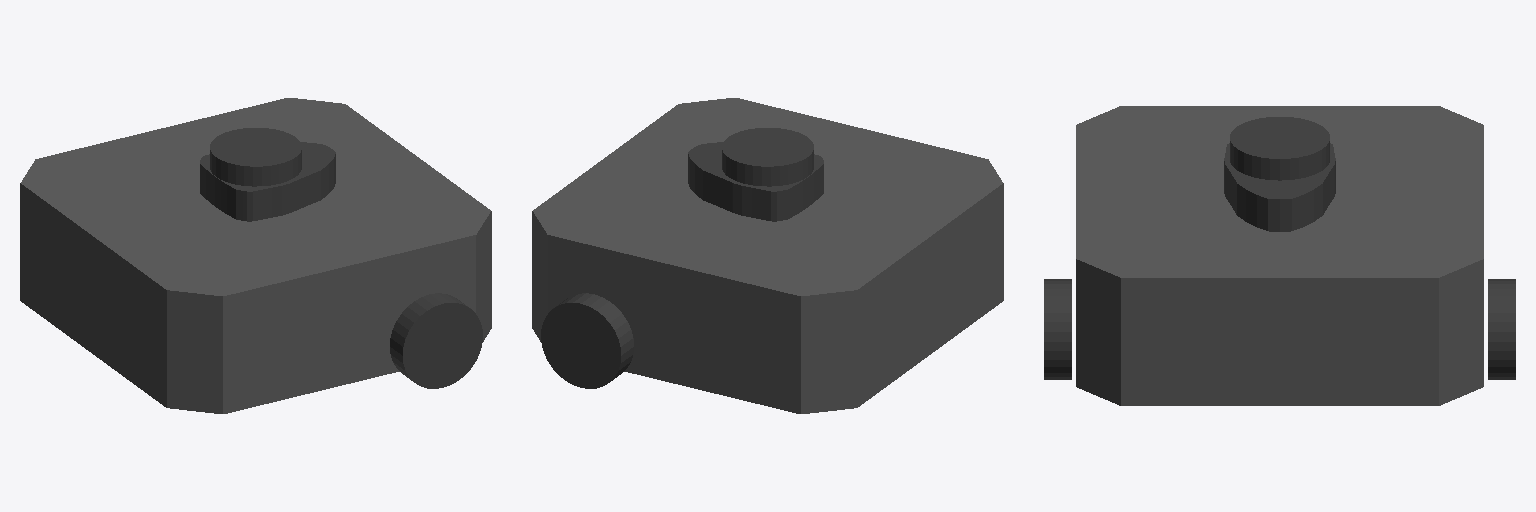
robot.urdf — turtlebot3_waffle_pi:
<?xml version="1.0" ?>
<robot name="turtlebot3_waffle_pi" xmlns:xacro="http://ros.org/wiki/xacro">
  <!-- <xacro:include filename="$(find turtlebot3_description)/urdf/common_properties.urdf"/> -->

  <!-- Init colour -->
  <material name="black">
      <color rgba="0.0 0.0 0.0 1.0"/>
  </material>

  <material name="dark">
    <color rgba="0.3 0.3 0.3 1.0"/>
  </material>

  <material name="light_black">
    <color rgba="0.4 0.4 0.4 1.0"/>
  </material>

  <material name="blue">
    <color rgba="0.0 0.0 0.8 1.0"/>
  </material>

  <material name="green">
    <color rgba="0.0 0.8 0.0 1.0"/>
  </material>

  <material name="grey">
    <color rgba="0.5 0.5 0.5 1.0"/>
  </material>

  <material name="orange">
    <color rgba="1.0 0.4235 0.0392 1.0"/>
  </material>

  <material name="brown">
    <color rgba="0.8706 0.8118 0.7647 1.0"/>
  </material>

  <material name="red">
    <color rgba="0.8 0.0 0.0 1.0"/>
  </material>

  <material name="white">
    <color rgba="1.0 1.0 1.0 1.0"/>
  </material>

  <link name="base_footprint"/>

  <joint name="base_joint" type="fixed">
    <parent link="base_footprint"/>
    <child link="base_link" />
    <origin xyz="0 0 0.010" rpy="0 0 0"/>
  </joint>

  <link name="base_link">
    <visual>
      <origin xyz="-0.064 0 0.0" rpy="0 0 0"/>
      <geometry>
        <mesh filename="package://turtlebot3_gazebo/models/turtlebot3_common/meshes/waffle_pi_base.dae" scale="0.001 0.001 0.001"/>
      </geometry>
      <material name="light_black"/>
    </visual>

    <collision>
      <origin xyz="-0.064 0 0.047" rpy="0 0 0"/>
      <geometry>
        <box size="0.266 0.266 0.094"/>
      </geometry>
    </collision>

    <inertial>
      <origin xyz="0 0 0" rpy="0 0 0"/>
      <mass value="1.3729096e+00"/>
      <inertia ixx="8.7002718e-03" ixy="-4.7576583e-05" ixz="1.1160499e-04"
               iyy="8.6195418e-03" iyz="-3.5422299e-06"
               izz="1.4612727e-02" />
    </inertial>
  </link>

  <joint name="wheel_left_joint" type="continuous">
    <parent link="base_link"/>
    <child link="wheel_left_link"/>
    <origin xyz="0.0 0.144 0.023" rpy="-1.57 0 0"/>
    <axis xyz="0 0 1"/>
  </joint>

  <link name="wheel_left_link">
    <visual>
      <origin xyz="0 0 0" rpy="1.57 0 0"/>
      <geometry>
        <mesh filename="package://turtlebot3_gazebo/models/turtlebot3_common/meshes/tire.dae" scale="0.001 0.001 0.001"/>
      </geometry>
      <material name="dark"/>
    </visual>

    <collision>
      <origin xyz="0 0 0" rpy="0 0 0"/>
      <geometry>
        <cylinder length="0.018" radius="0.033"/>
      </geometry>
    </collision>

    <inertial>
      <origin xyz="0 0 0" />
      <mass value="2.8498940e-02" />
      <inertia ixx="1.1175580e-05" ixy="-4.2369783e-11" ixz="-5.9381719e-09"
               iyy="1.1192413e-05" iyz="-1.4400107e-11"
               izz="2.0712558e-05" />
      </inertial>
  </link>

  <joint name="wheel_right_joint" type="continuous">
    <parent link="base_link"/>
    <child link="wheel_right_link"/>
    <origin xyz="0.0 -0.144 0.023" rpy="-1.57 0 0"/>
    <axis xyz="0 0 1"/>
  </joint>

  <link name="wheel_right_link">
    <visual>
      <origin xyz="0 0 0" rpy="1.57 0 0"/>
      <geometry>
        <mesh filename="package://turtlebot3_gazebo/models/turtlebot3_common/meshes/tire.dae" scale="0.001 0.001 0.001"/>
      </geometry>
      <material name="dark"/>
    </visual>

    <collision>
      <origin xyz="0 0 0" rpy="0 0 0"/>
      <geometry>
        <cylinder length="0.018" radius="0.033"/>
      </geometry>
    </collision>

    <inertial>
      <origin xyz="0 0 0" />
      <mass value="2.8498940e-02" />
      <inertia ixx="1.1175580e-05" ixy="-4.2369783e-11" ixz="-5.9381719e-09"
               iyy="1.1192413e-05" iyz="-1.4400107e-11"
               izz="2.0712558e-05" />
      </inertial>
  </link>

  <joint name="caster_back_right_joint" type="fixed">
    <parent link="base_link"/>
    <child link="caster_back_right_link"/>
    <origin xyz="-0.177 -0.064 -0.004" rpy="-1.57 0 0"/>
  </joint>

  <link name="caster_back_right_link">
    <collision>
      <origin xyz="0 0.001 0" rpy="0 0 0"/>
      <geometry>
        <box size="0.030 0.009 0.020"/>
      </geometry>
    </collision>

    <inertial>
      <origin xyz="0 0 0" />
      <mass value="0.005" />
      <inertia ixx="0.001" ixy="0.0" ixz="0.0"
               iyy="0.001" iyz="0.0"
               izz="0.001" />
    </inertial>
  </link>

  <joint name="caster_back_left_joint" type="fixed">
    <parent link="base_link"/>
    <child link="caster_back_left_link"/>
    <origin xyz="-0.177 0.064 -0.004" rpy="-1.57 0 0"/>
  </joint>

  <link name="caster_back_left_link">
    <collision>
      <origin xyz="0 0.001 0" rpy="0 0 0"/>
      <geometry>
        <box size="0.030 0.009 0.020"/>
      </geometry>
    </collision>

    <inertial>
      <origin xyz="0 0 0" />
      <mass value="0.005" />
      <inertia ixx="0.001" ixy="0.0" ixz="0.0"
               iyy="0.001" iyz="0.0"
               izz="0.001" />
    </inertial>
  </link>

  <joint name="imu_joint" type="fixed">
    <parent link="base_link"/>
    <child link="imu_link"/>
    <origin xyz="0.0 0 0.068" rpy="0 0 0"/>
  </joint>

  <link name="imu_link"/>

  <joint name="scan_joint" type="fixed">
    <parent link="base_link"/>
    <child link="base_scan"/>
    <origin xyz="-0.064 0 0.122" rpy="0 0 0"/>
  </joint>

  <link name="base_scan">
    <visual>
      <origin xyz="0 0 0.0" rpy="0 0 0"/>
      <geometry>
        <mesh filename="package://turtlebot3_gazebo/models/turtlebot3_common/meshes/lds.dae" scale="0.001 0.001 0.001"/>
      </geometry>
      <material name="dark"/>
    </visual>

    <collision>
      <origin xyz="0.015 0 -0.0065" rpy="0 0 0"/>
      <geometry>
        <cylinder length="0.0315" radius="0.055"/>
      </geometry>
    </collision>

    <inertial>
      <mass value="0.114" />
      <origin xyz="0 0 0" />
      <inertia ixx="0.001" ixy="0.0" ixz="0.0"
               iyy="0.001" iyz="0.0"
               izz="0.001" />
    </inertial>
  </link>

  <joint name="camera_joint" type="fixed">
    <origin xyz="0.073 -0.011 0.084" rpy="0 0 0"/>
    <parent link="base_link"/>
    <child link="camera_link"/>
  </joint>

  <link name="camera_link">
    <collision>
      <origin xyz="0.005 0.011 0.013" rpy="0 0 0"/>
      <geometry>
        <box size="0.015 0.030 0.027"/>
      </geometry>
    </collision>
  </link>

  <joint name="camera_rgb_joint" type="fixed">
    <origin xyz="0.003 0.011 0.009" rpy="0 0 0"/>
    <parent link="camera_link"/>
    <child link="camera_rgb_frame"/>
  </joint>
  <link name="camera_rgb_frame"/>

  <joint name="camera_rgb_optical_joint" type="fixed">
    <origin xyz="0 0 0" rpy="-1.57 0 -1.57"/>
    <parent link="camera_rgb_frame"/>
    <child link="camera_rgb_optical_frame"/>
  </joint>
  <link name="camera_rgb_optical_frame"/>

</robot>

--- What the picture shows (computed from the rendered views, not written in the file) ---
The picture shows the robot from 3 angles, left to right: view 1: azimuth 30°, elevation 25°; view 2: azimuth 150°, elevation 25°; view 3: azimuth 270°, elevation 25°; orthographic projection.
Model turtlebot3_waffle_pi with 11 links and 10 joints (2 continuous, 8 fixed), rooted at base_footprint, posed every joint at zero.
Visible links, largest first — view 1: base_link, base_scan, wheel_right_link; view 2: base_link, base_scan, wheel_left_link; view 3: base_link, base_scan, wheel_left_link, wheel_right_link.
Boxes of the visible links, box(x1,y1,x2,y2) form: base_link: box(20, 98, 491, 413); base_scan: box(200, 128, 335, 221); wheel_right_link: box(390, 293, 482, 388); base_link: box(532, 98, 1003, 413); base_scan: box(688, 128, 823, 221); wheel_left_link: box(541, 293, 633, 388); base_link: box(1076, 106, 1483, 405); base_scan: box(1224, 117, 1335, 231); wheel_left_link: box(1488, 279, 1515, 379); wheel_right_link: box(1044, 279, 1071, 379).
Size in the robot's own frame: 0.265 by 0.3062 by 0.1408 metres.
4 mesh visuals loaded from 3 distinct referenced files (3 Collada DAE).